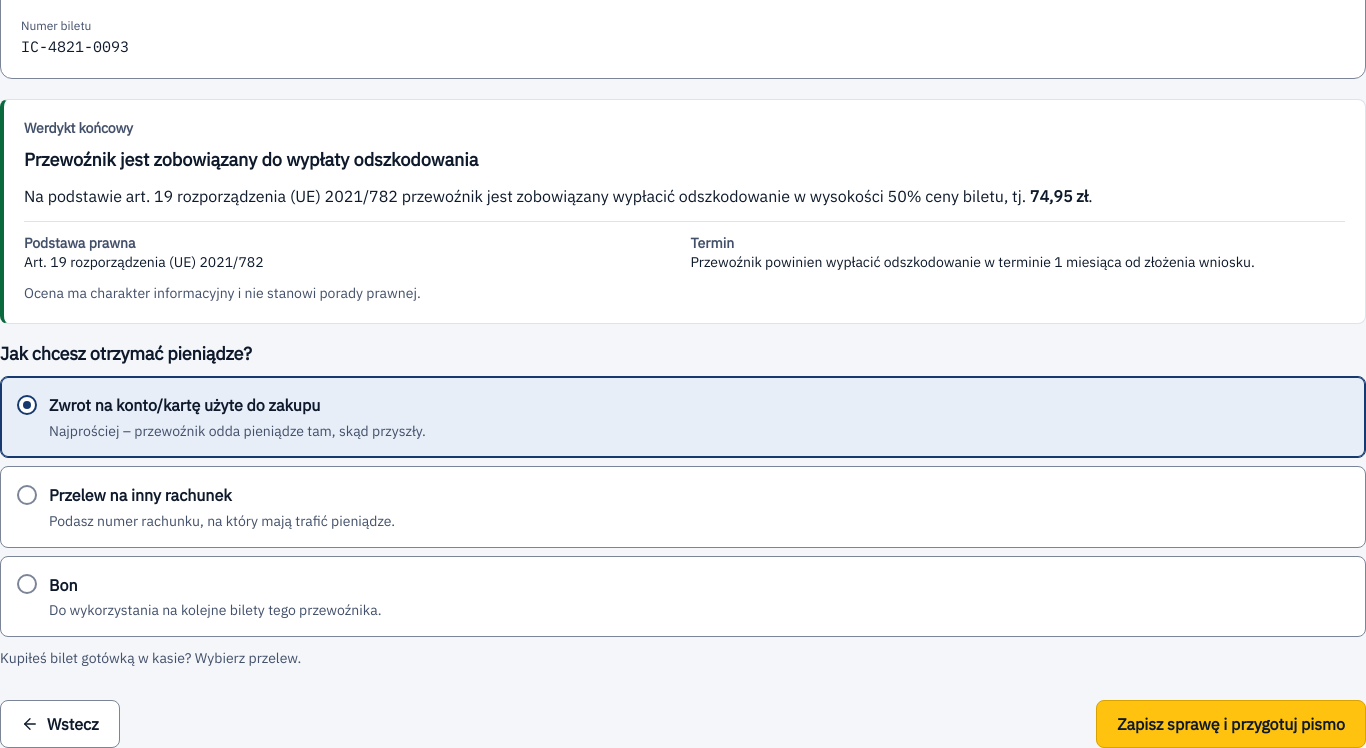
Test: ResultStep – save with inline sign-in › asks a guest to sign in, then saves the case and prepares the letter without losing anything
(page scrolled)
Click the radio button labelled "Przelew na inny rachunek".
click(140, 495)  # box [0,466,1365,548]
(page scrolled)
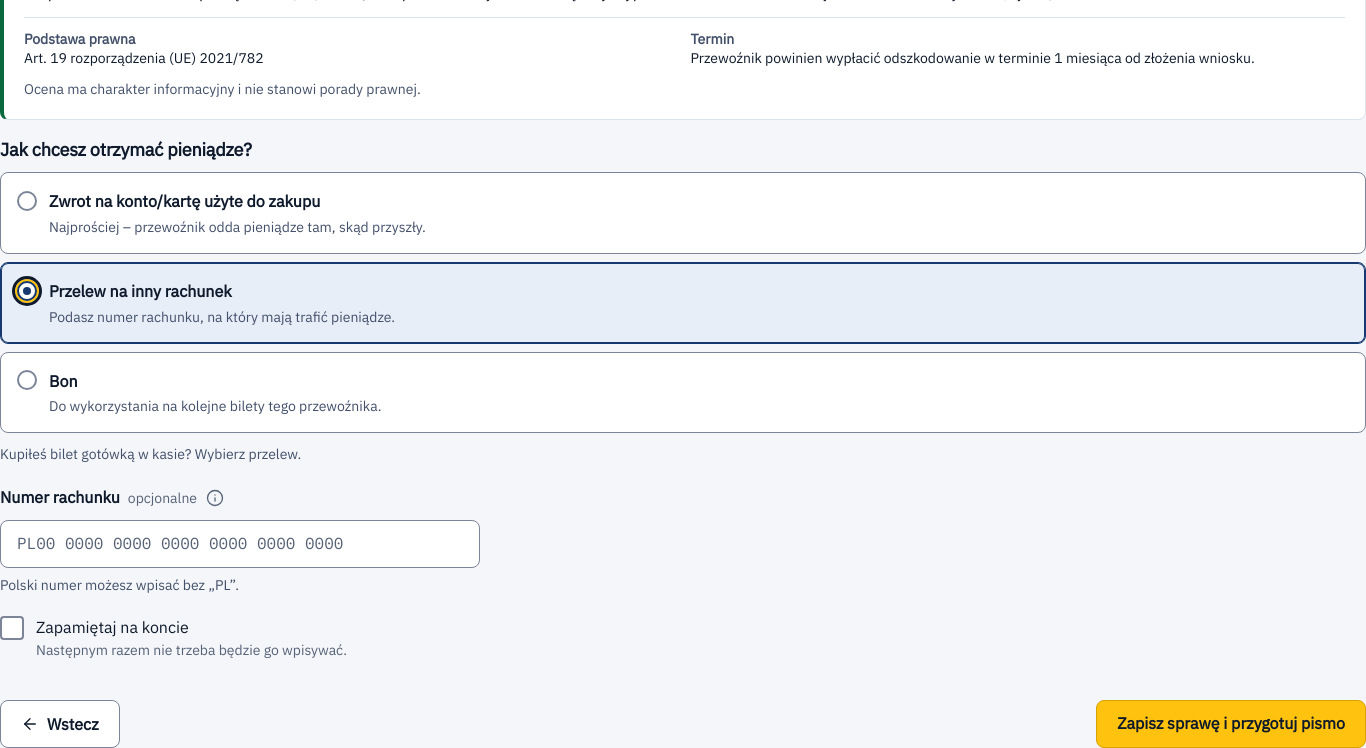
Type "PL61109010140000071219812874" into the field labelled "Numer rachunku opcjonalne".
click(240, 544); type("PL61109010140000071219812874")  # box [0,520,480,568]
Click the checkbox labelled "Zapamiętaj na koncie".
click(174, 637)  # box [0,616,347,659]
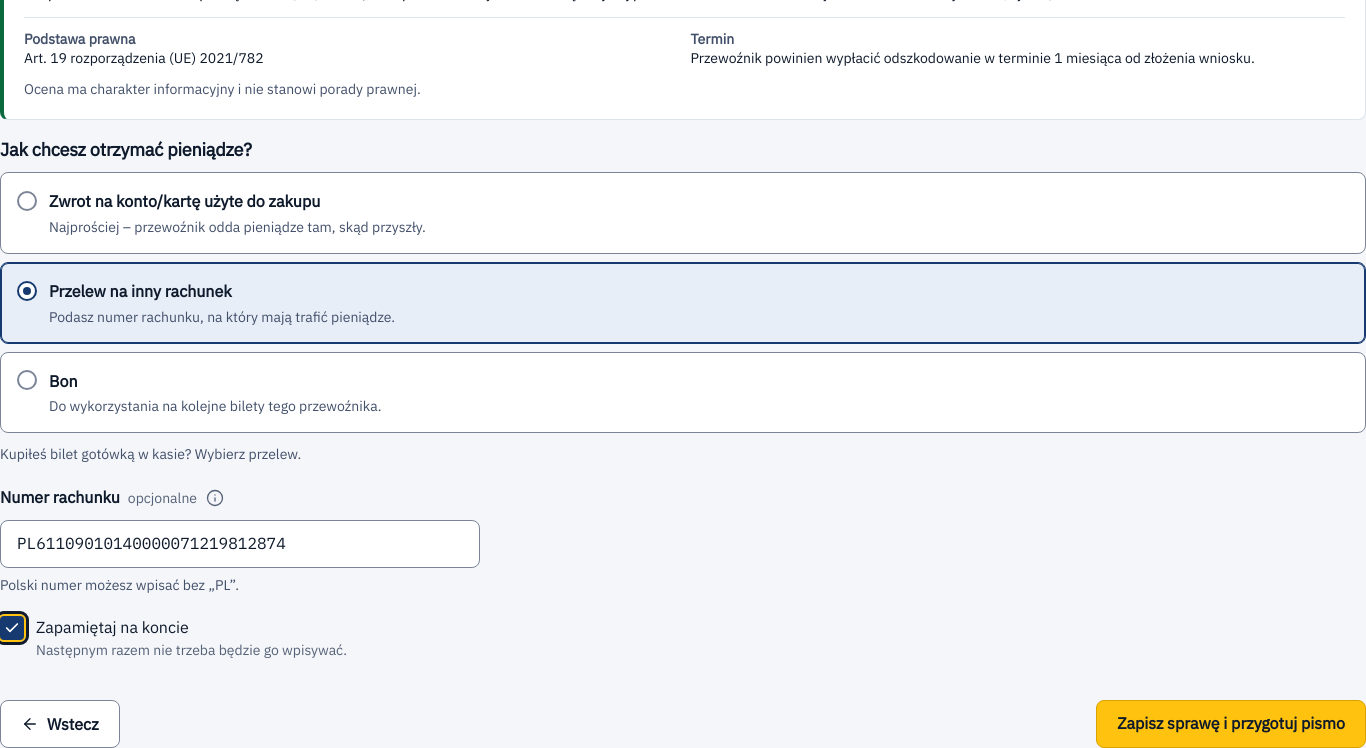
Click the button "Zapisz sprawę i przygotuj pismo".
click(1231, 724)  # box [1096,700,1365,747]
(page scrolled)
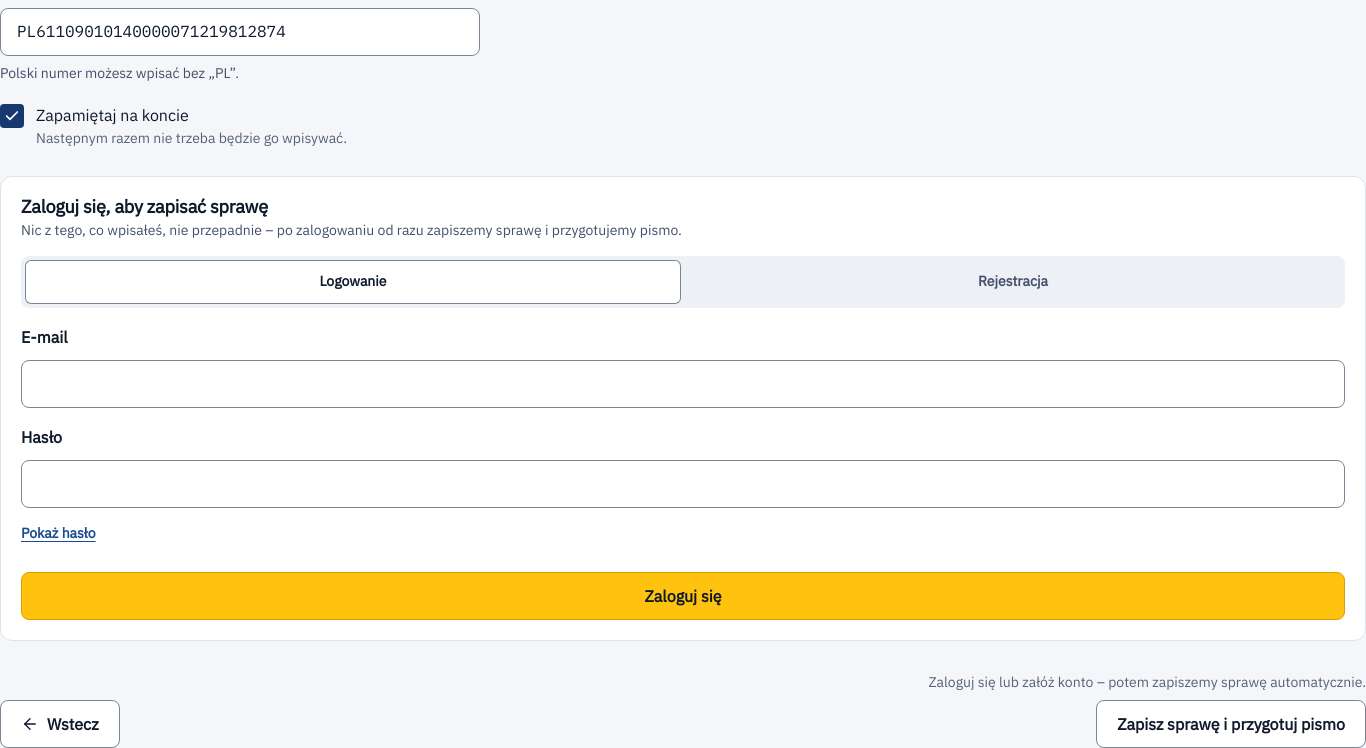
Check: the tab "Logowanie" is shown, box [25,260,681,304]
Type "jan@example.com" into the field labelled "E-mail".
click(683, 384); type("jan@example.com")  # box [21,360,1345,408]
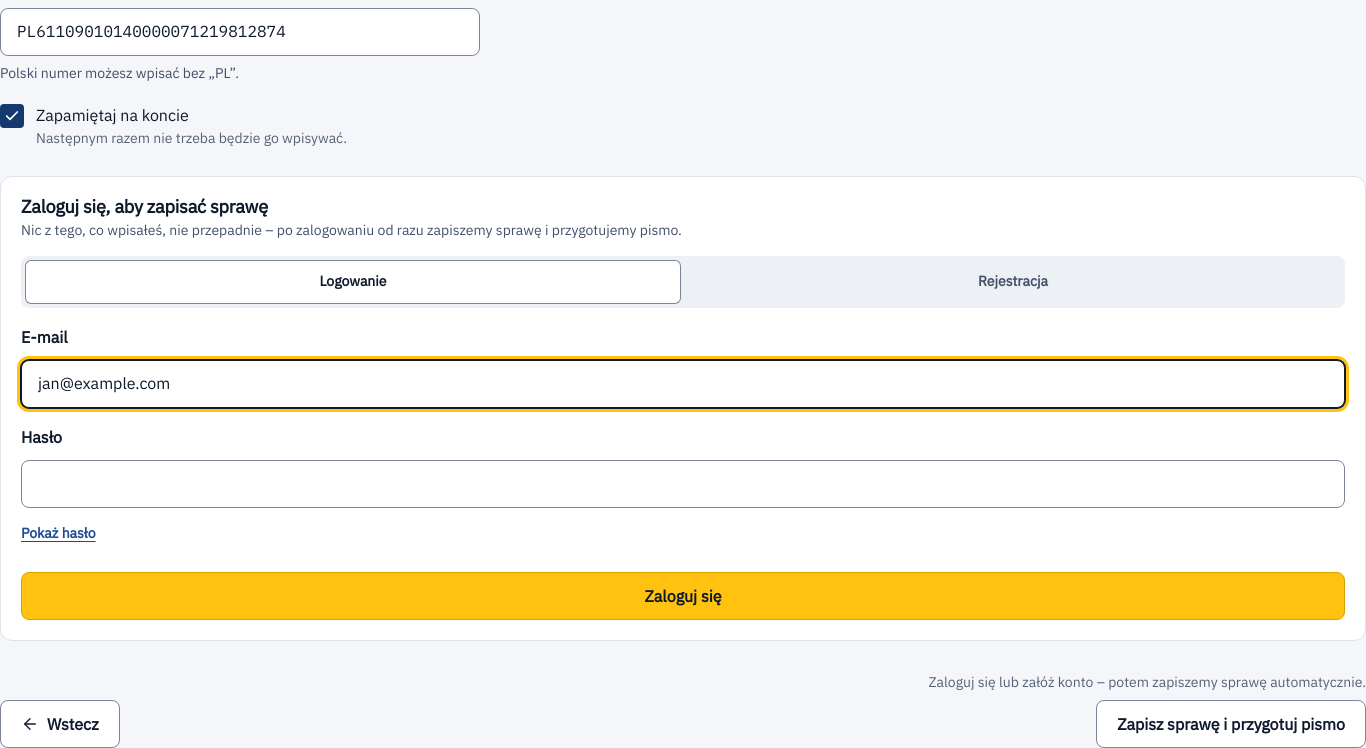
Type "Haslo123!" into the password field labelled "Hasło".
click(683, 484); type("Haslo123!")  # box [21,460,1345,508]
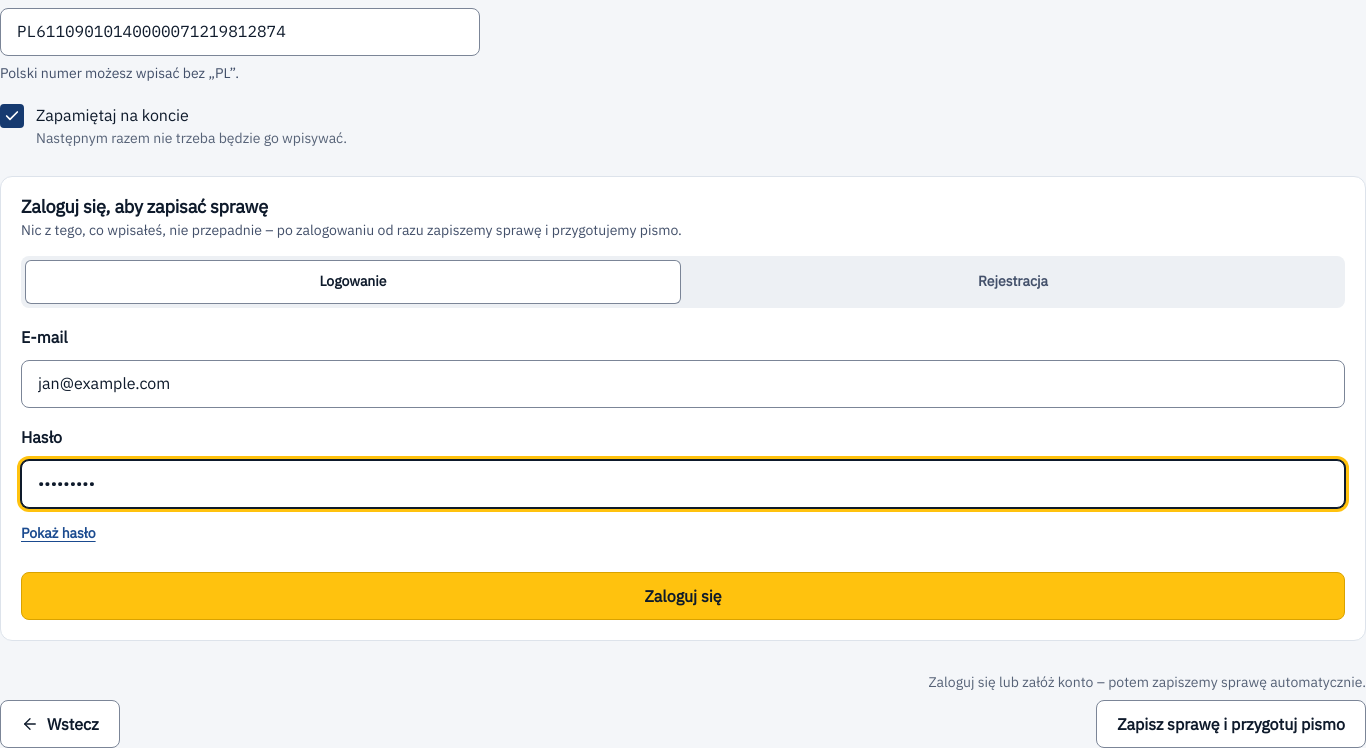
Click the button "Zaloguj się".
click(683, 596)  # box [21,572,1345,620]
(page scrolled)
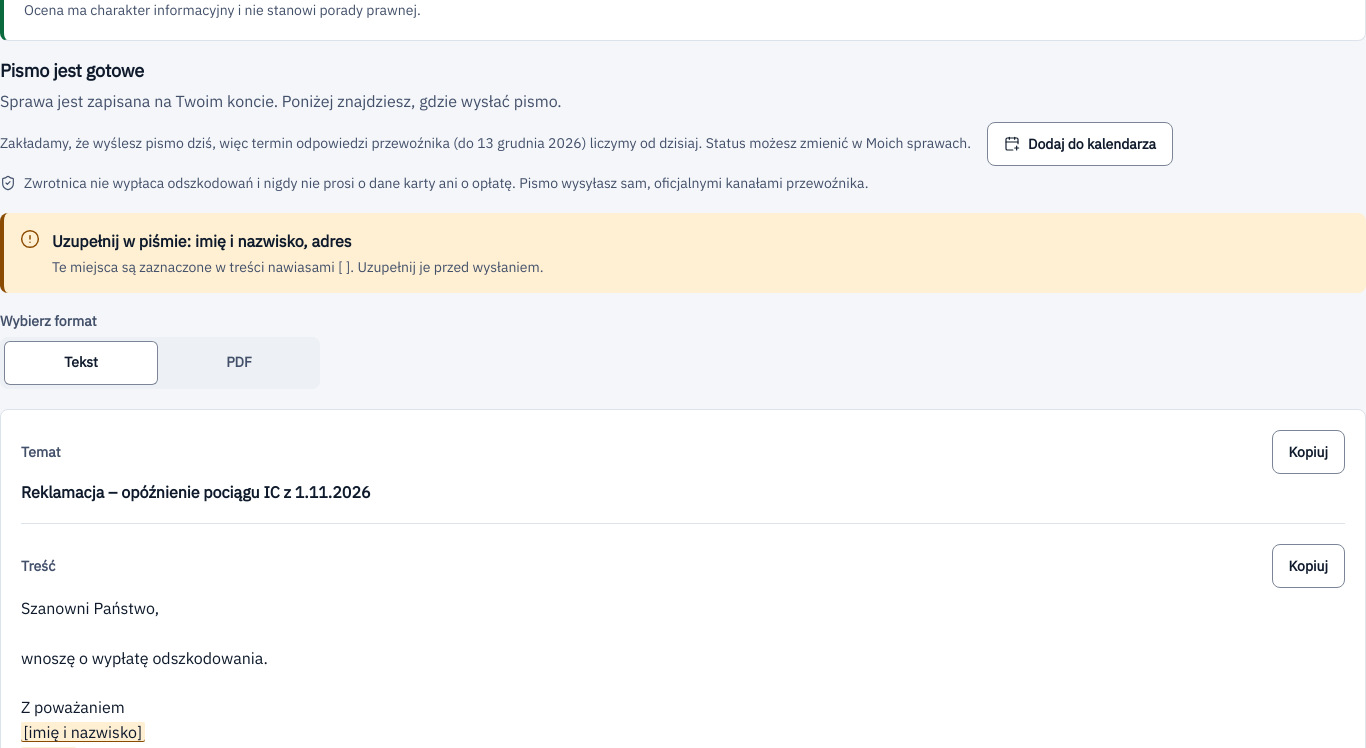
Check: the heading "Pismo jest gotowe" is shown, box [0,58,144,82]
Check: the message "Uzupełnij w piśmie" shows "Uzupełnij w piśmie: imię i nazwisko, adres", box [0,213,1365,293]
Check: the text "Reklamacja – opóźnienie pociągu IC z 1.11.2026" is shown, box [21,482,371,502]
